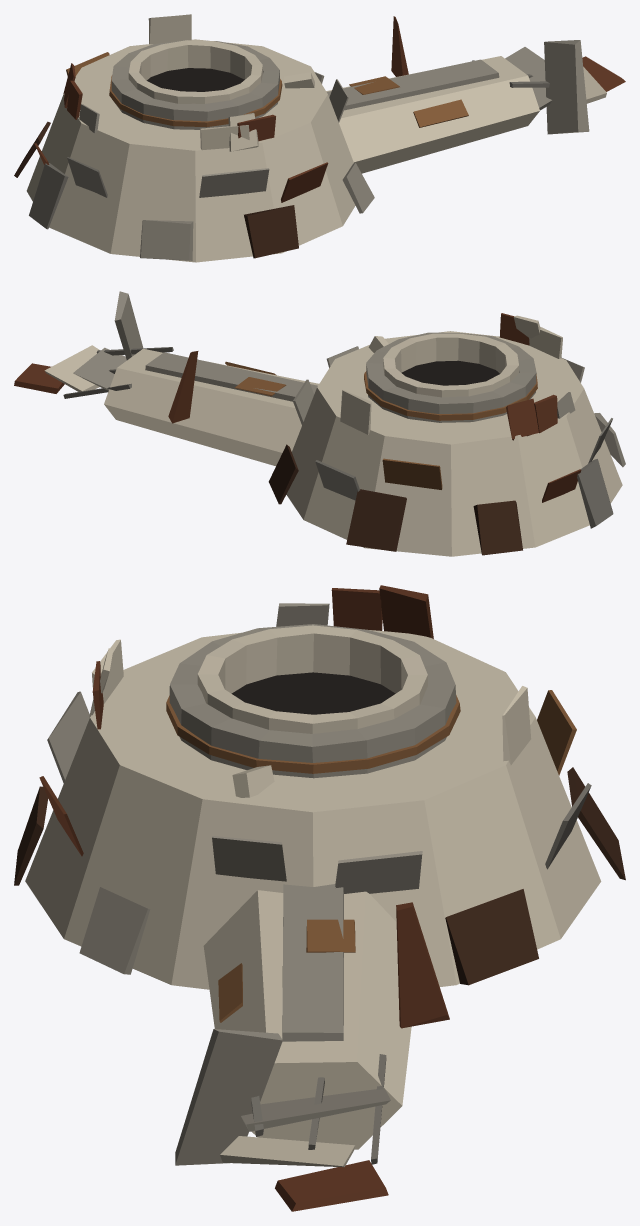
Rendered from ship_hub.glb.
3 views of the same model, one above another, from view 1: azimuth 30°, elevation 25°; view 2: azimuth 150°, elevation 25°; view 3: azimuth 270°, elevation 25° (orthographic). The views are drawn at different scales.
Parts seen in each view (by area): view 1: ship_hub; view 2: ship_hub; view 3: ship_hub.
Boxes of the visible parts, x1,y1,x2,y2 form: ship_hub: (14, 14, 625, 262); ship_hub: (14, 291, 625, 556); ship_hub: (14, 585, 625, 1211).
Bounding box in the file's own units: 94.51 × 21.17 × 51.22.
